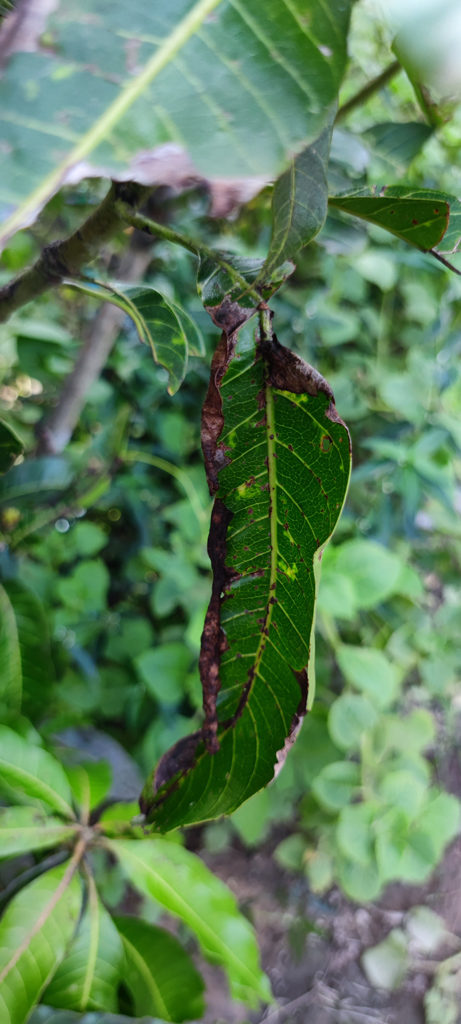Alternaria brassicicola: (224, 384, 295, 773)
